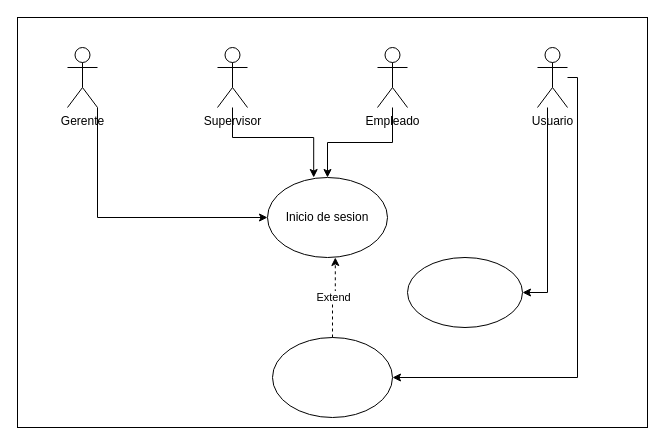
Some shapes in this 665 by 445 pixel diagram are drawn without their labels. Here are the shapes that lost their labels. From the top down, the centre of each, then its label:
the point at 464,292: Ver productos sin registrarse
the point at 332,377: Registrarse
